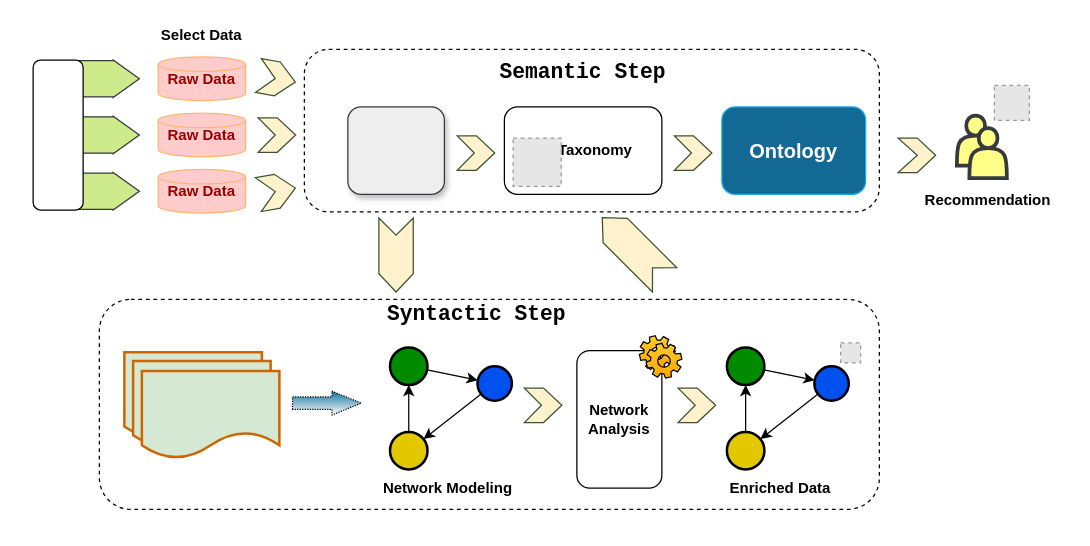
The diagram is 1090 pixels wide and 546 high, and some of its shapes have lost their labels. Grey dashed boxes stand in for pictures. The shapes that lost their labels are listed below. From the top down, each one's centre as x and y in pixels, then its label:
At (x=57, y=134): "Data Providers".
At (x=397, y=152): "Domain Knowledge".
At (x=210, y=414): "Machine Learning Algorithms".
